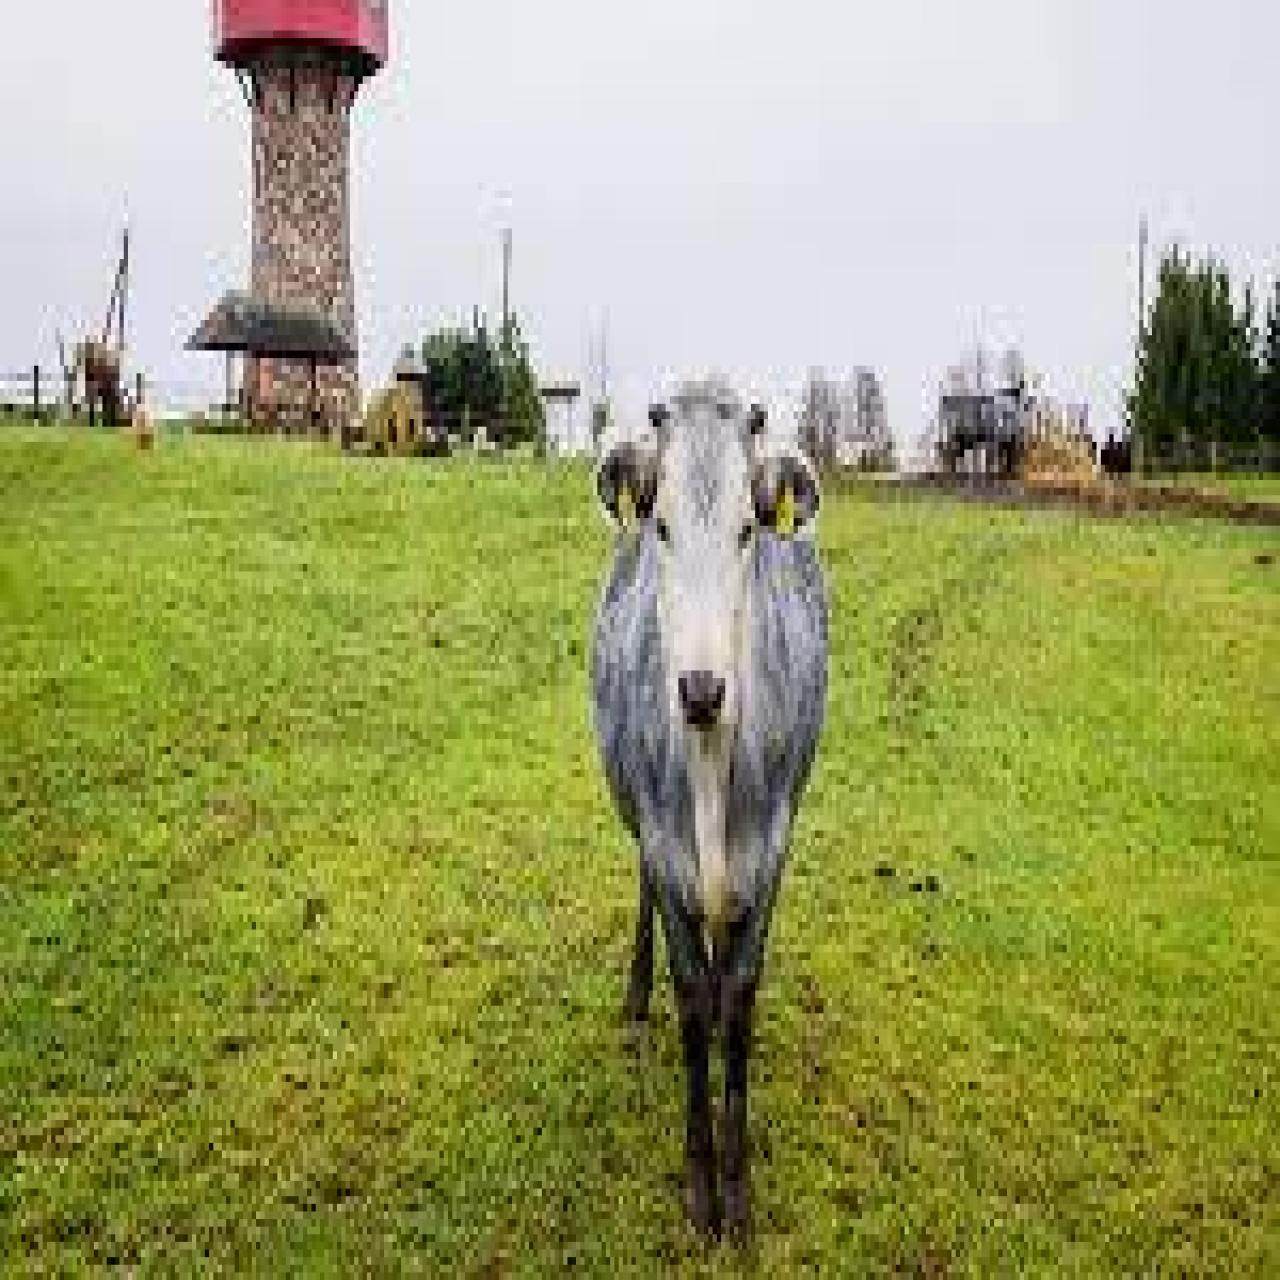cow: (588, 377, 832, 1246)
